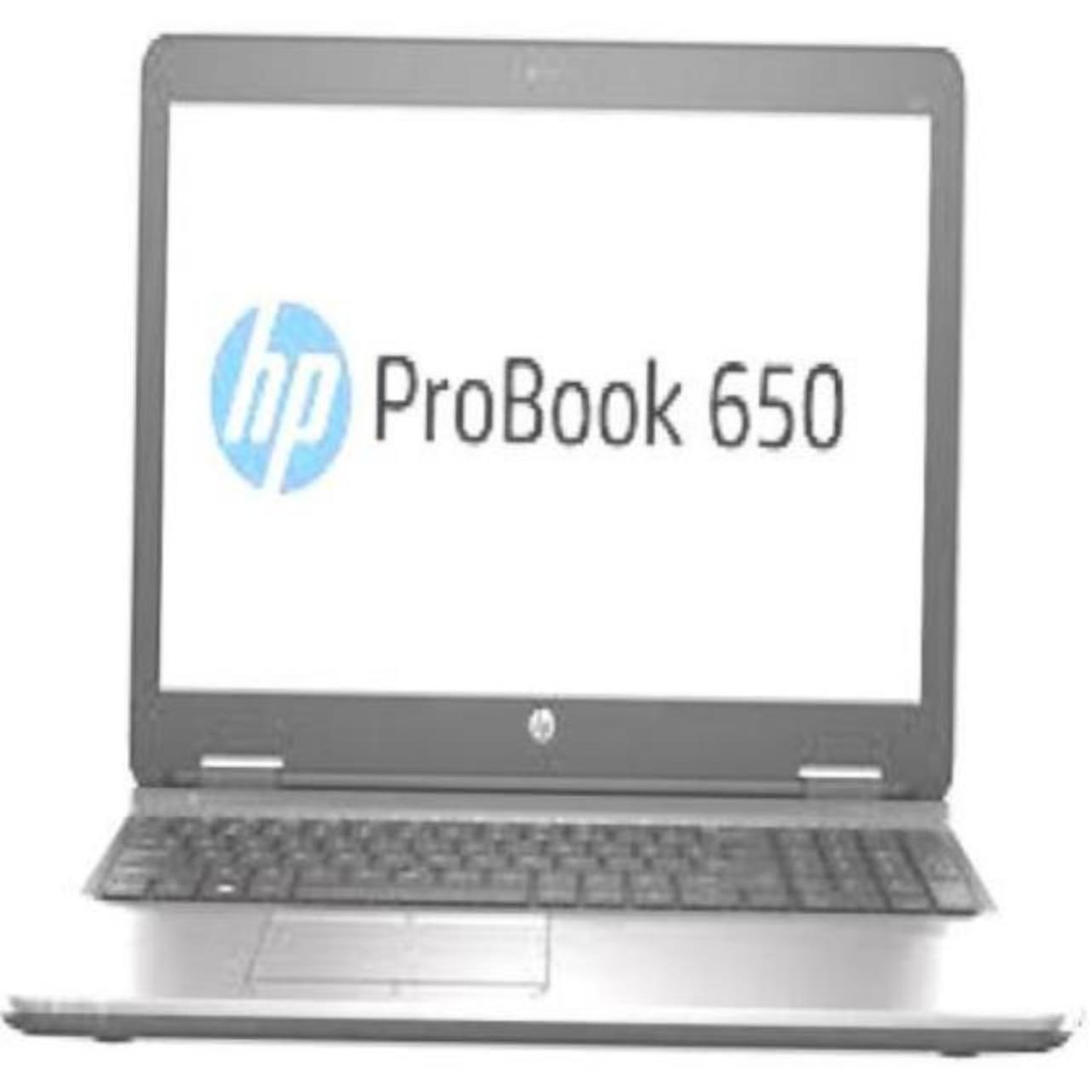laptop: (3, 22, 1089, 1087)
